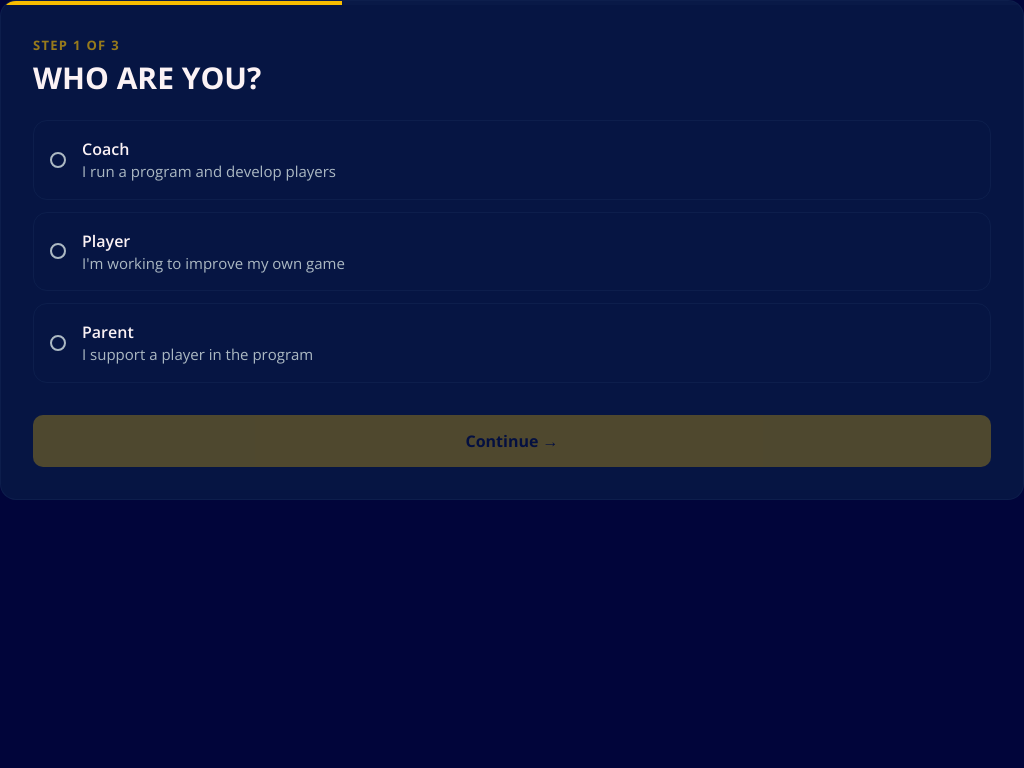
it: BetaSignupForm › shows an error message when the request fails
Click the text "Player" at point(106, 241), box [82,230,130,252]
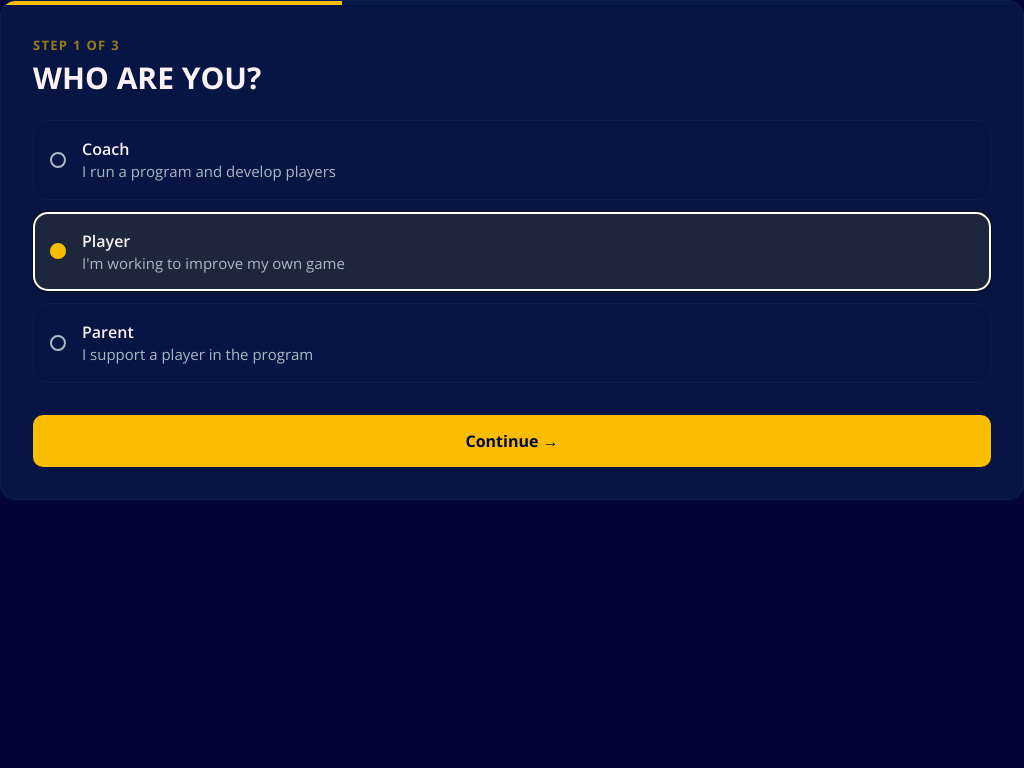
Click the button "Continue →" at point(512, 441), box [33,415,991,467]
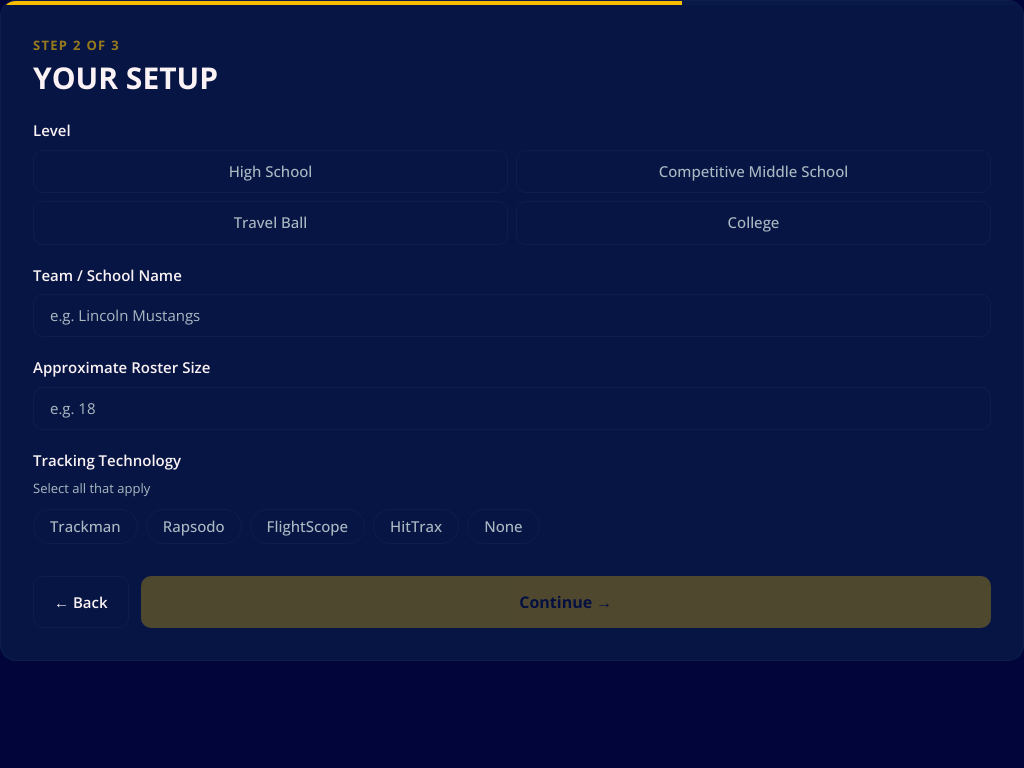
Click the button "Travel Ball" at point(270, 223), box [33,201,508,245]
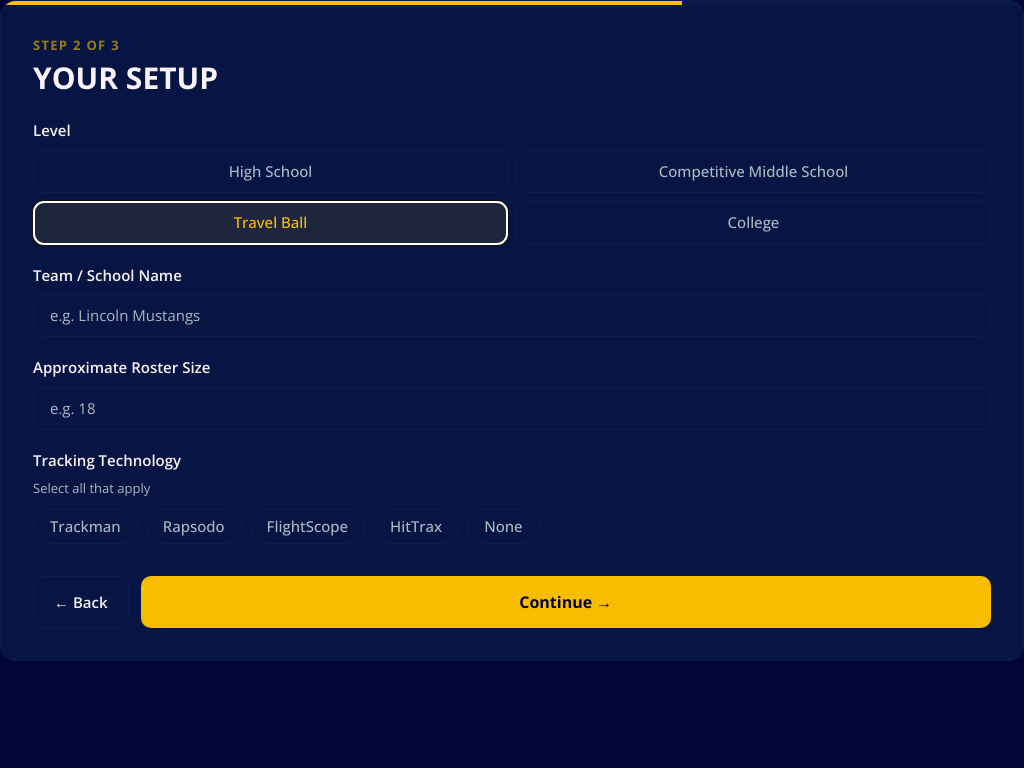
Click the button "Continue →" at point(566, 602), box [140,576,991,628]
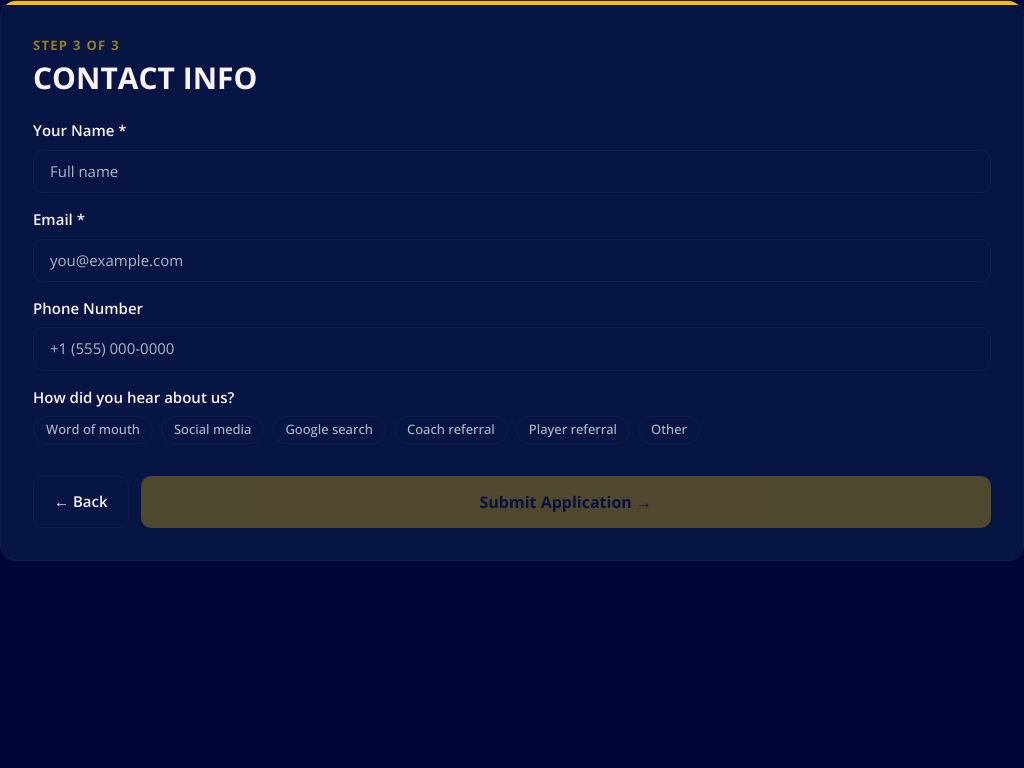
Type "Jo Player" into the field with placeholder "Full name" at point(512, 172), box [33,150,991,193]
Type "jo@example.com" into the field with placeholder "you@example.com" at point(512, 260), box [33,239,991,282]
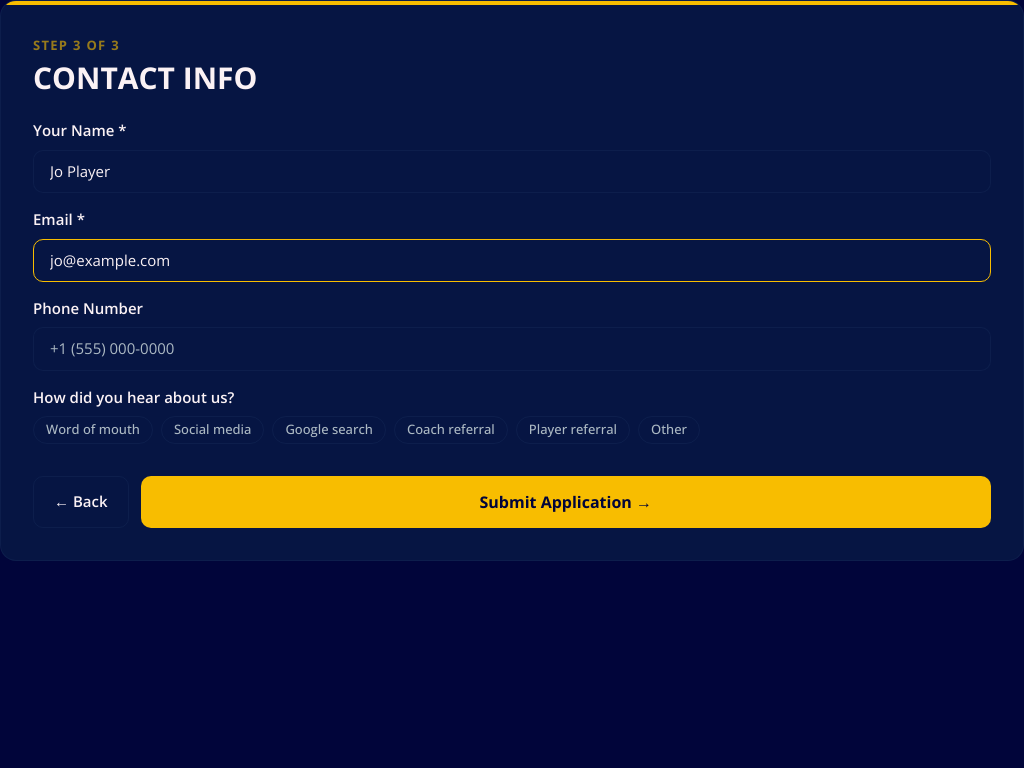
Click the button "Submit Application →" at point(566, 502), box [140,476,991,528]
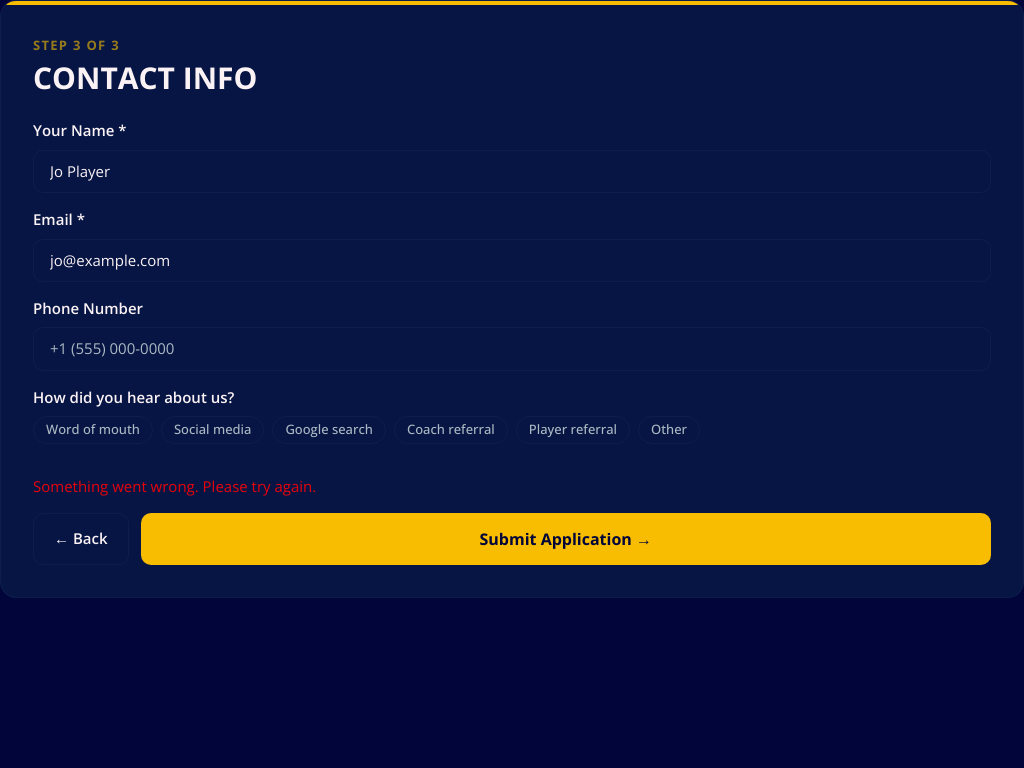
Expected: the text "Something went wrong. Please try again." is shown, [33,476,316,496]
